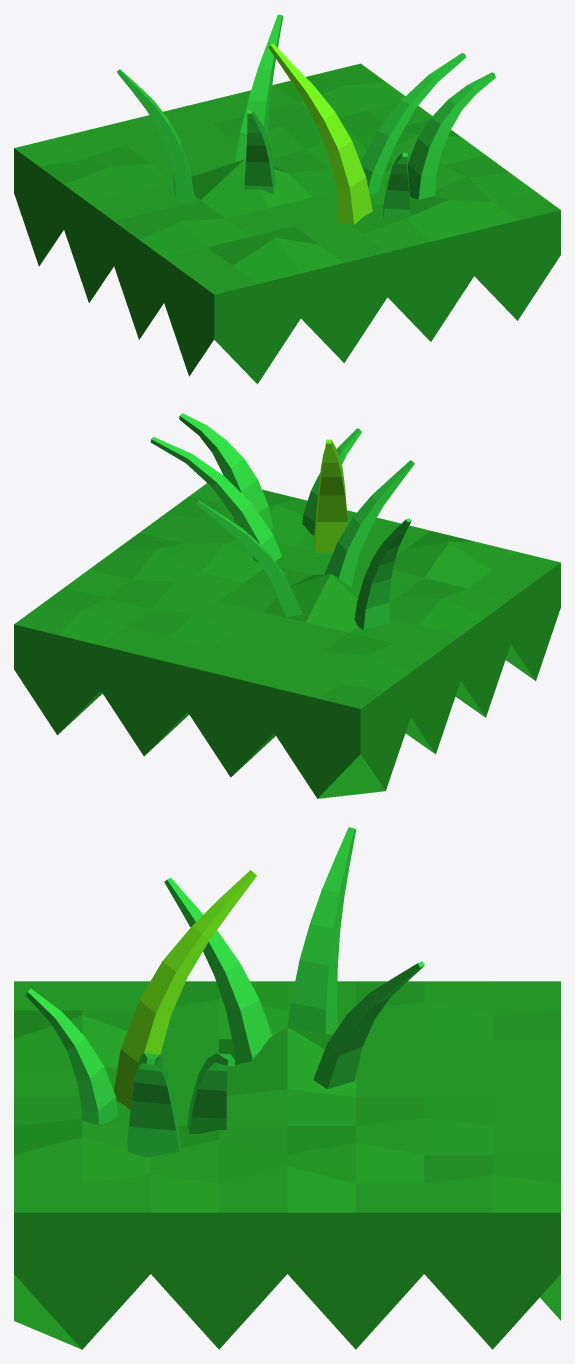
File: grass2.fbx
The picture shows the model from 3 angles, top to bottom: view 1: azimuth 30°, elevation 25°; view 2: azimuth 150°, elevation 25°; view 3: azimuth 270°, elevation 25°; orthographic projection. The views are drawn at different scales.
Visible parts, largest first — view 1: 立方体_1, 草_3, 草_5, 草_4, 草_1, 草_2, 草, 草_4_4; view 2: 立方体_1, 草_4, 草_3, 草_1, 草, 草_5, 草_2, 草_4_4; view 3: 立方体_1, 草_3, 草_1, 草, 草_5, 草_2, 草_4_4, 草_4.
Part boxes in pixels (x1,y1,x2,y2): 立方体_1: (14, 63, 560, 384); 草_3: (268, 43, 372, 224); 草_5: (407, 72, 495, 199); 草_4: (360, 53, 465, 194); 草_1: (117, 69, 195, 201); 草_2: (235, 14, 283, 162); 草: (244, 110, 275, 193); 草_4_4: (382, 152, 410, 218); 立方体_1: (14, 483, 560, 798); 草_4: (150, 436, 281, 562); 草_3: (313, 439, 347, 552); 草_1: (354, 518, 411, 630); 草: (325, 460, 414, 588); 草_5: (179, 413, 273, 530); 草_2: (195, 499, 302, 616); 草_4_4: (302, 428, 361, 535); 立方体_1: (14, 981, 560, 1349); 草_3: (114, 870, 256, 1110); 草_1: (287, 827, 356, 1034); 草: (164, 877, 272, 1064); 草_5: (127, 1053, 180, 1157); 草_2: (313, 961, 424, 1088); 草_4_4: (25, 988, 118, 1124); 草_4: (187, 1053, 234, 1133).
Bounding box in the file's own units: 103 × 71.27 × 103.
